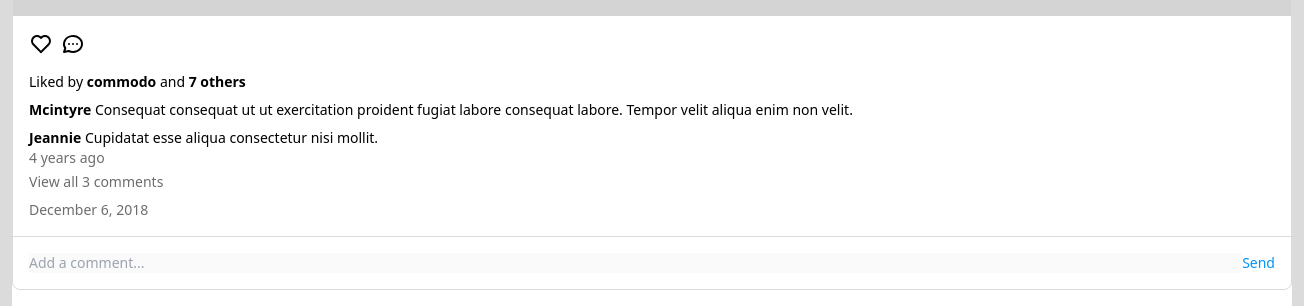
Test: <Post/> › should change icon when liked button is clicked twice
(page scrolled)
Step 1. Click the button with test id "like-button" → (41, 44), box x1=29 y1=32 x2=53 y2=56
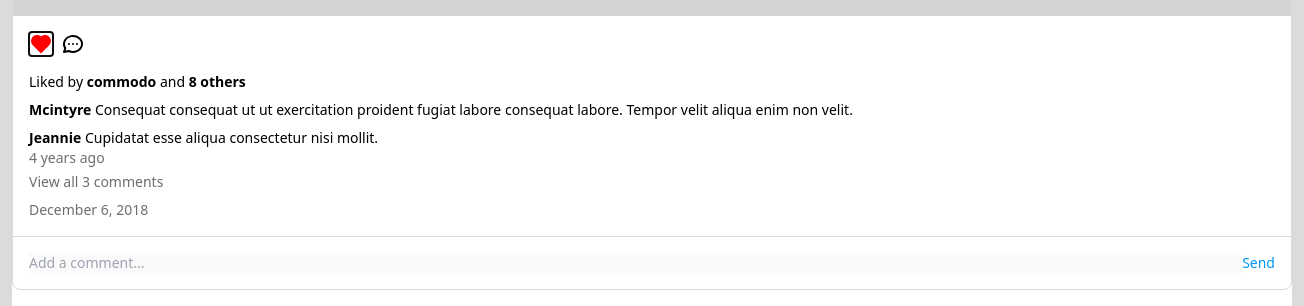
Step 2. Click the button with test id "like-button" → (41, 44), box x1=29 y1=32 x2=53 y2=56
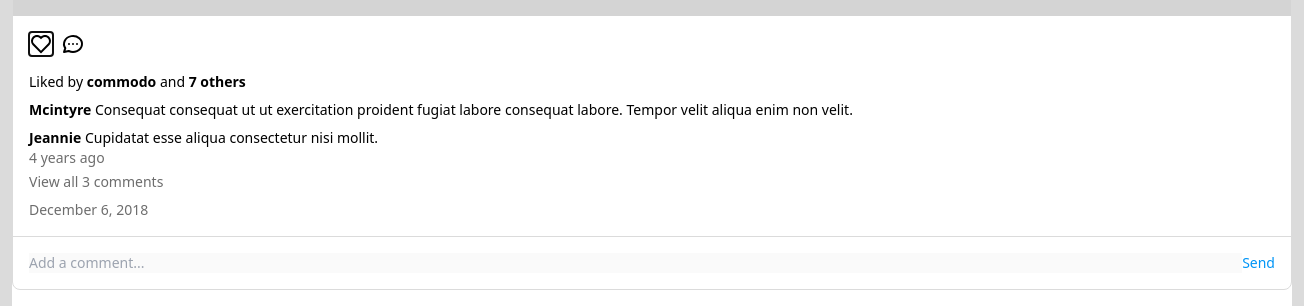
Expected: the icon with test id "like" is shown, x1=29 y1=32 x2=53 y2=56
